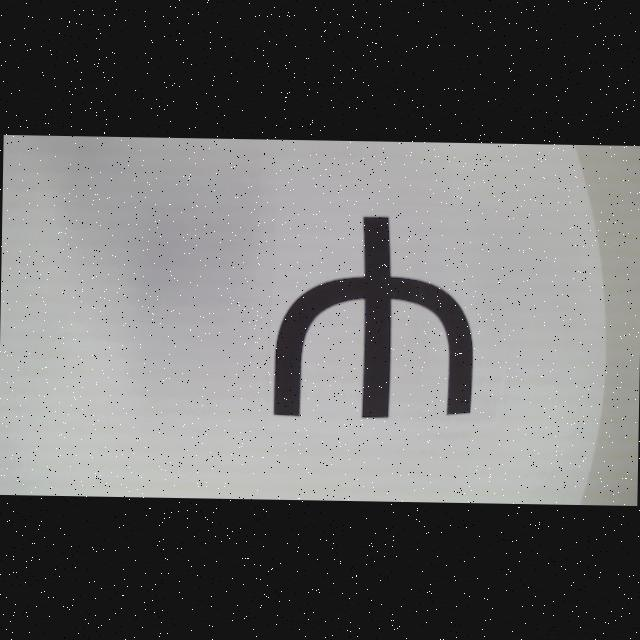PSI: (273, 214, 475, 420)
